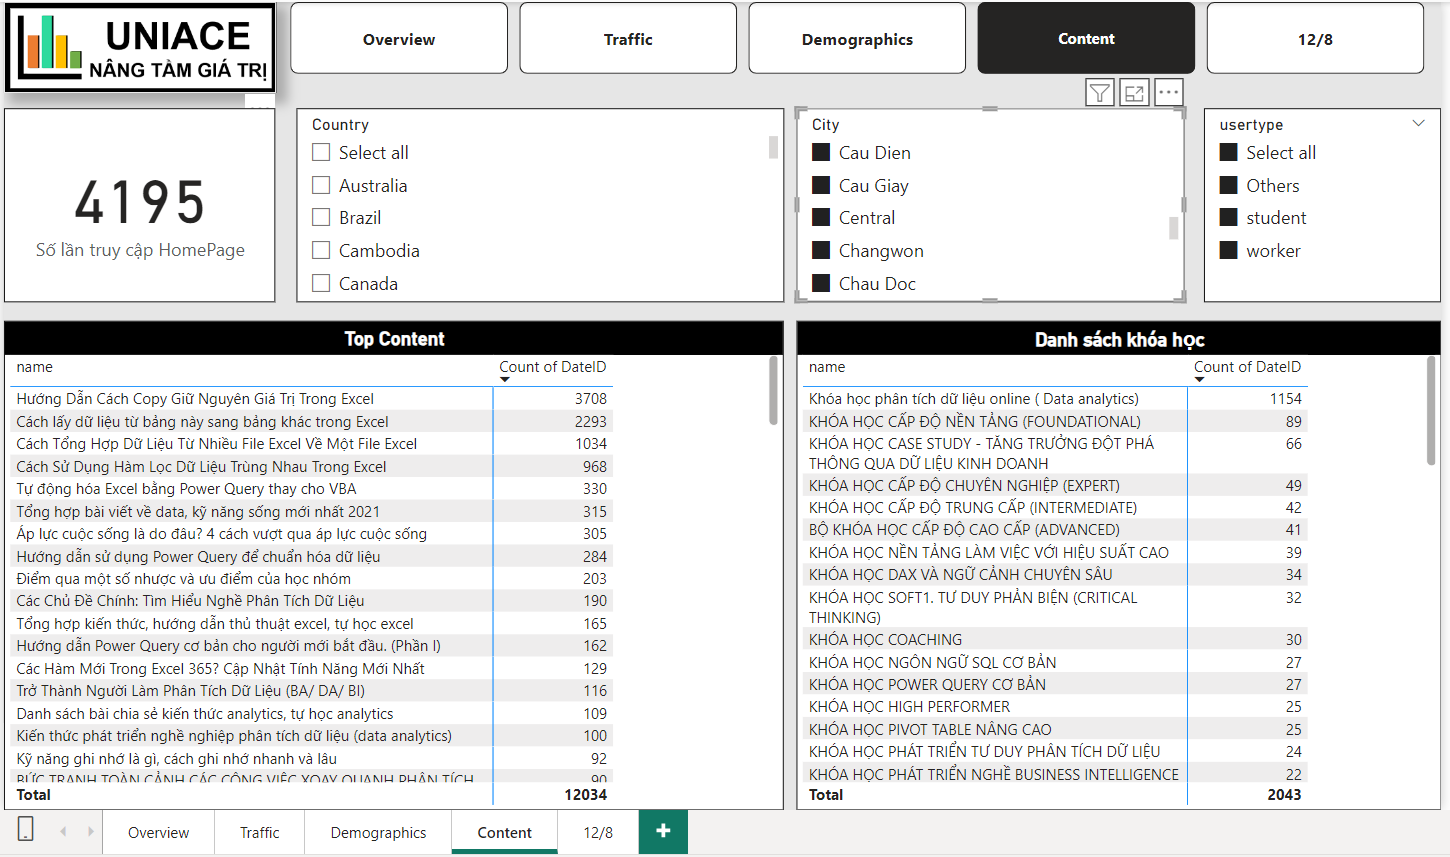

The page's visual inventory and layout, read from the dashboard file:
{"tool":"powerbi","page":{"name":"Content","canvas":[1280,720],"ordinal":3},"visuals":[{"type":"image","box":[0,0,242.7,80.9],"z":0},{"type":"pageNavigator","box":[255,0,1014.6,64.4],"z":1000},{"type":"pivotTable","title":"Top Content","fields":{"Rows":["seo_analytics.name"],"Values":["CountNonNull(seo_analytics.DateID)"]},"box":[0,284.3,694.3,435.7],"z":2000},{"type":"slicer","fields":{"Values":["seo_analytics.usertype"]},"box":[1068.9,94.1,211.1,172.5],"z":3000},{"type":"slicer","fields":{"Values":["location.Country"]},"box":[260,94.3,434.3,172.9],"z":4000},{"type":"slicer","fields":{"Values":["location.City"]},"box":[705.7,94.3,345.7,172.9],"z":5000},{"type":"card","fields":{"Values":["seo_analytics.Count of ma url for https://uniace.vn/# or https://uniace.vn/"]},"box":[0,94.3,241.4,172.9],"z":6000},{"type":"pivotTable","title":"Danh sách khóa học ","fields":{"Rows":["seo_analytics.name"],"Values":["CountNonNull(seo_analytics.DateID)"]},"box":[705.7,284.3,574.3,435.7],"z":7000}]}

Visuals, with their boxes in screenshot pixels (x1, y1, x2, y2):
image: (4,0,275,90)
pageNavigator: (289,0,1422,72)
"Top Content" pivotTable: (4,318,779,804)
slicer - seo_analytics.usertype: (1198,105,1434,298)
slicer - location.Country: (294,105,779,299)
slicer - location.City: (792,105,1178,299)
card - seo_analytics.Count of ma url for https://uniace.vn/# or https://uniace.vn/: (4,105,273,299)
"Danh sách khóa học " pivotTable: (792,318,1434,804)
